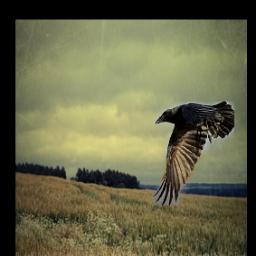Crow: (153, 102, 235, 206)
